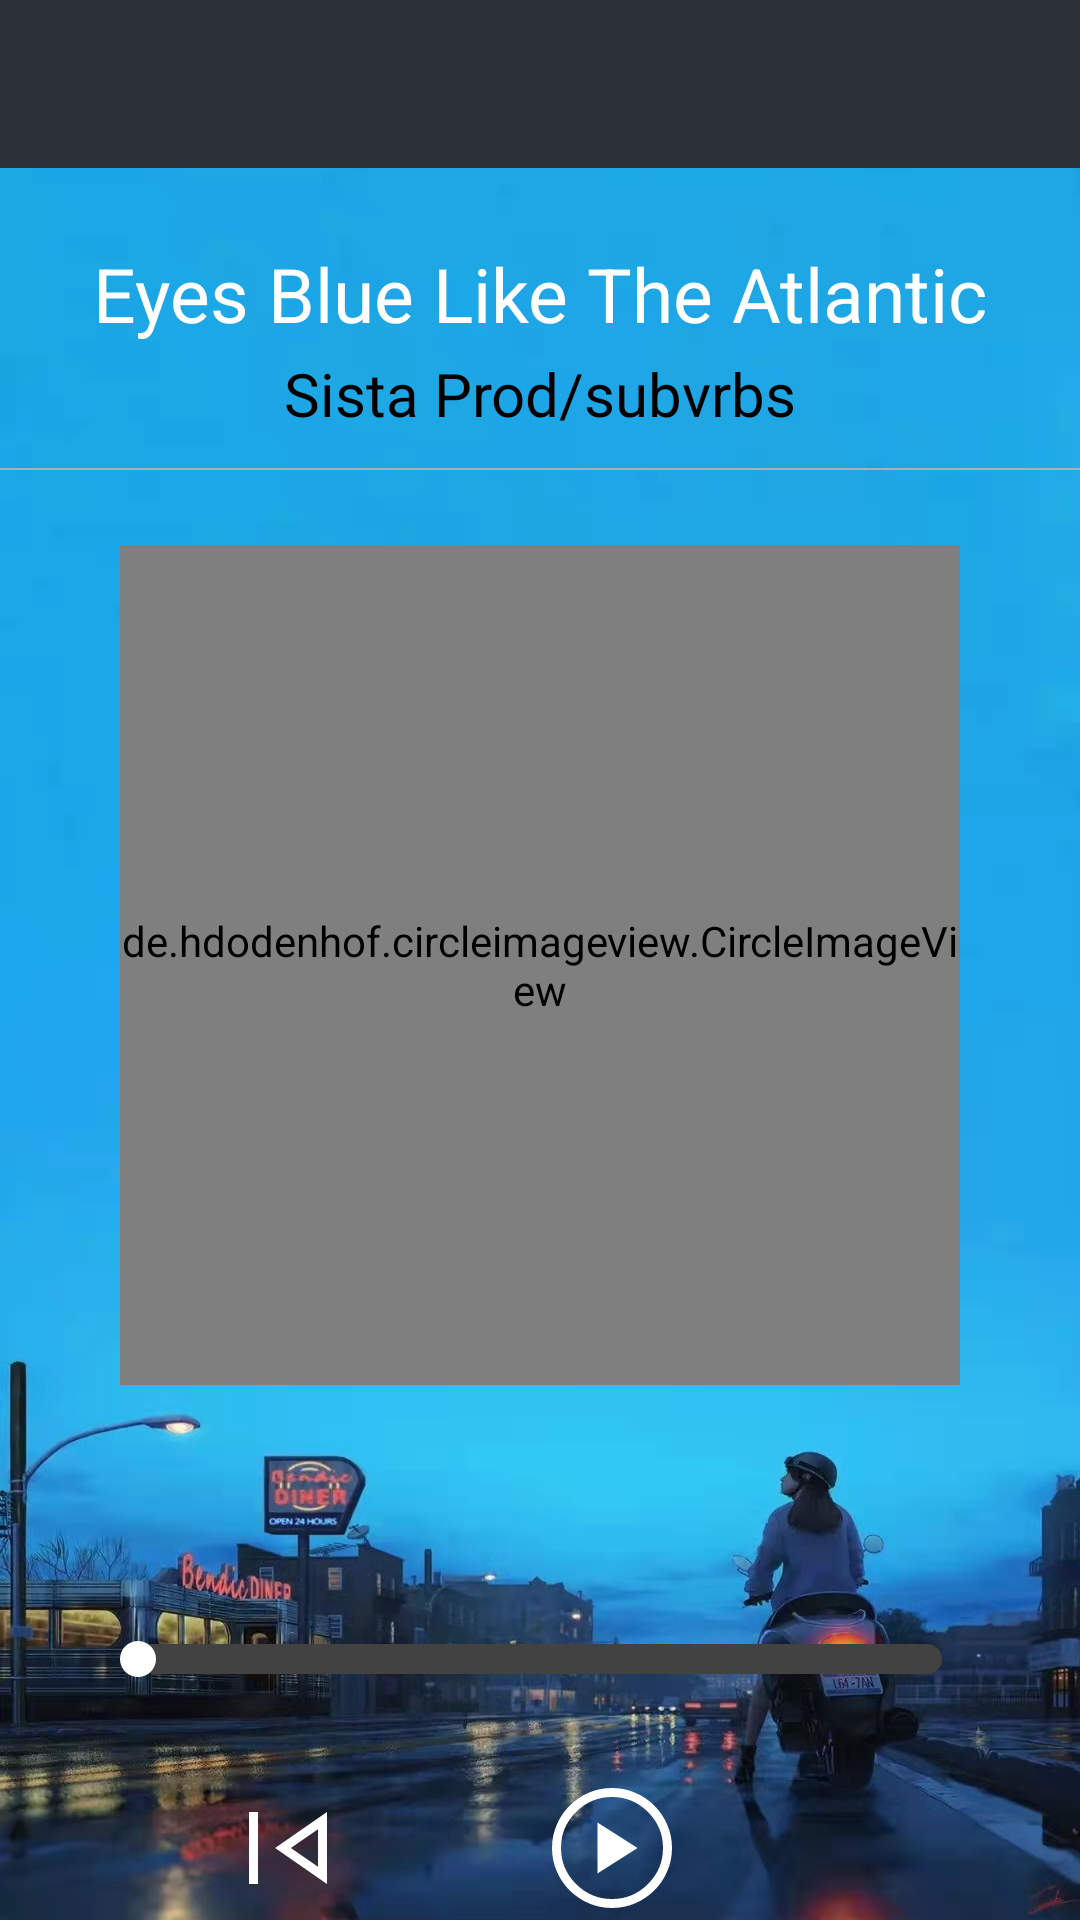

Point at icon controls on the screen. Image size 1080x1920, points as (x,y).
play circle: (612,1848)
